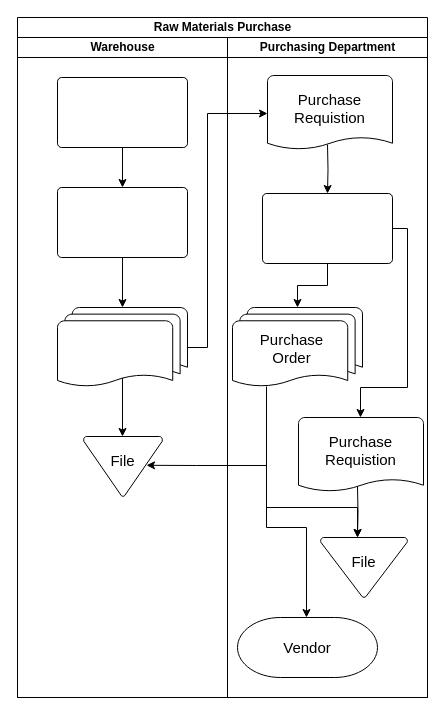
Image size: 445x715. Some labels were removed from this diagram. Here are the shapes that lost their labels. From the top down, the centre of each, then its label:
At point 122,112: "Review Inventory Balances".
At point 122,222: "Generate Purchase Requisition".
At point 327,228: "Generate Purchase Order".
At point 122,347: "Purchase Requsition".
